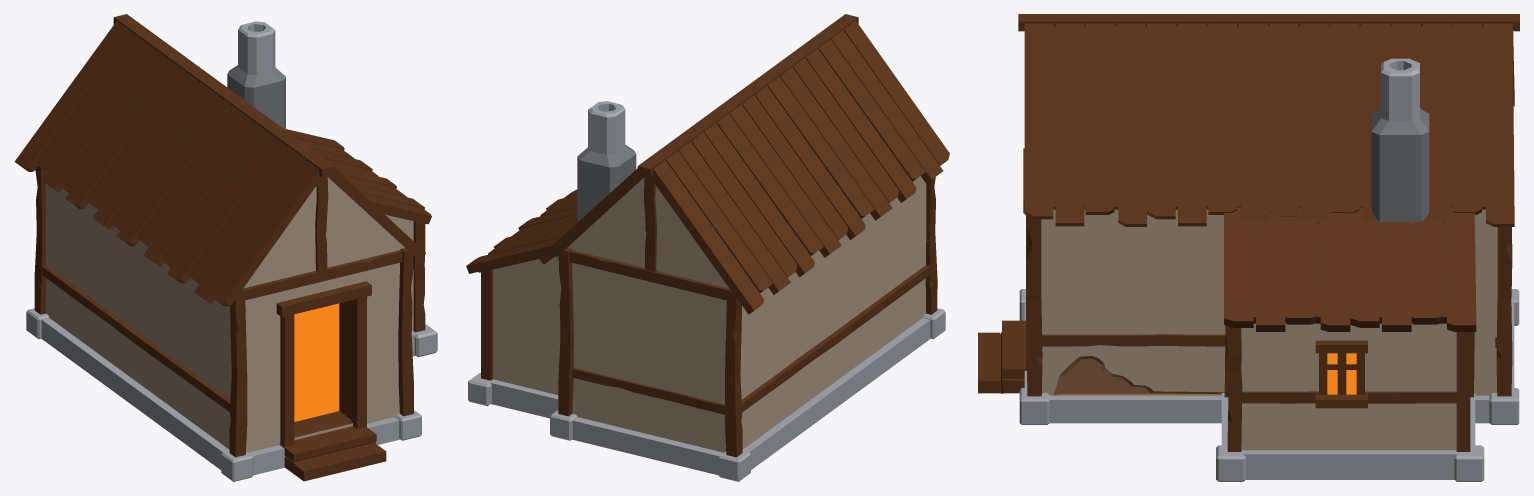
File: LowpolyHouse.fbx
3 views of the same model, side by side, from view 1: azimuth 30°, elevation 25°; view 2: azimuth 150°, elevation 25°; view 3: azimuth 270°, elevation 25° (orthographic). The views are drawn at different scales.
Visible parts, largest first — view 1: Cube, Cube.008, Cube.006, Cube.012, Cube.002, Cube.003, Cube.014, Cube.004, Cube.053, Cube.010, Cube.009, Cube.011 (+3 smaller); view 2: Cube, Cube.008, Cube.044, Cube.006, Cube.012, Cube.003, Cube.014, Cube.004, Cube.053, Cube.054, Cube.007, Cube.015; view 3: Cube.008, Cube, Cube.044, Cube.014, Cube.003, Cube.012, Cube.006, Cube.045, Cube.002, Cube.049, Cube.046, Cube.051 (+3 smaller).
Boxes of the visible parts, box(x1,y1,x2,y2) form: Cube: box(41, 172, 404, 475); Cube.008: box(14, 21, 425, 306); Cube.006: box(26, 166, 421, 481); Cube.012: box(227, 21, 285, 129); Cube.002: box(279, 426, 386, 481); Cube.003: box(37, 14, 416, 289); Cube.014: box(286, 129, 431, 224); Cube.004: box(243, 176, 402, 300); Cube.053: box(41, 265, 230, 411); Cube.010: box(351, 296, 366, 428); Cube.009: box(280, 314, 294, 446); Cube.011: box(276, 281, 371, 317); Cube: box(567, 176, 930, 475); Cube.008: box(538, 21, 949, 314); Cube.044: box(490, 255, 561, 418); Cube.006: box(550, 177, 945, 481); Cube.012: box(577, 101, 636, 222); Cube.003: box(554, 14, 858, 301); Cube.014: box(466, 189, 577, 273); Cube.004: box(569, 176, 728, 300); Cube.053: box(741, 265, 930, 411); Cube.054: box(572, 368, 724, 414); Cube.007: box(481, 269, 492, 380); Cube.015: box(468, 372, 493, 406); Cube.008: box(1024, 23, 1514, 226); Cube: box(1024, 209, 1514, 423); Cube.044: box(1221, 323, 1475, 479); Cube.014: box(1224, 207, 1476, 331); Cube.003: box(1018, 14, 1519, 209); Cube.012: box(1371, 58, 1429, 224); Cube.006: box(1019, 216, 1519, 424); Cube.045: box(1315, 340, 1367, 408); Cube.002: box(978, 320, 1025, 393); Cube.049: box(1042, 334, 1225, 346); Cube.046: box(1253, 213, 1446, 323); Cube.051: box(1242, 391, 1456, 403).
Size of the model in its own units: 522 by 484 by 668.
